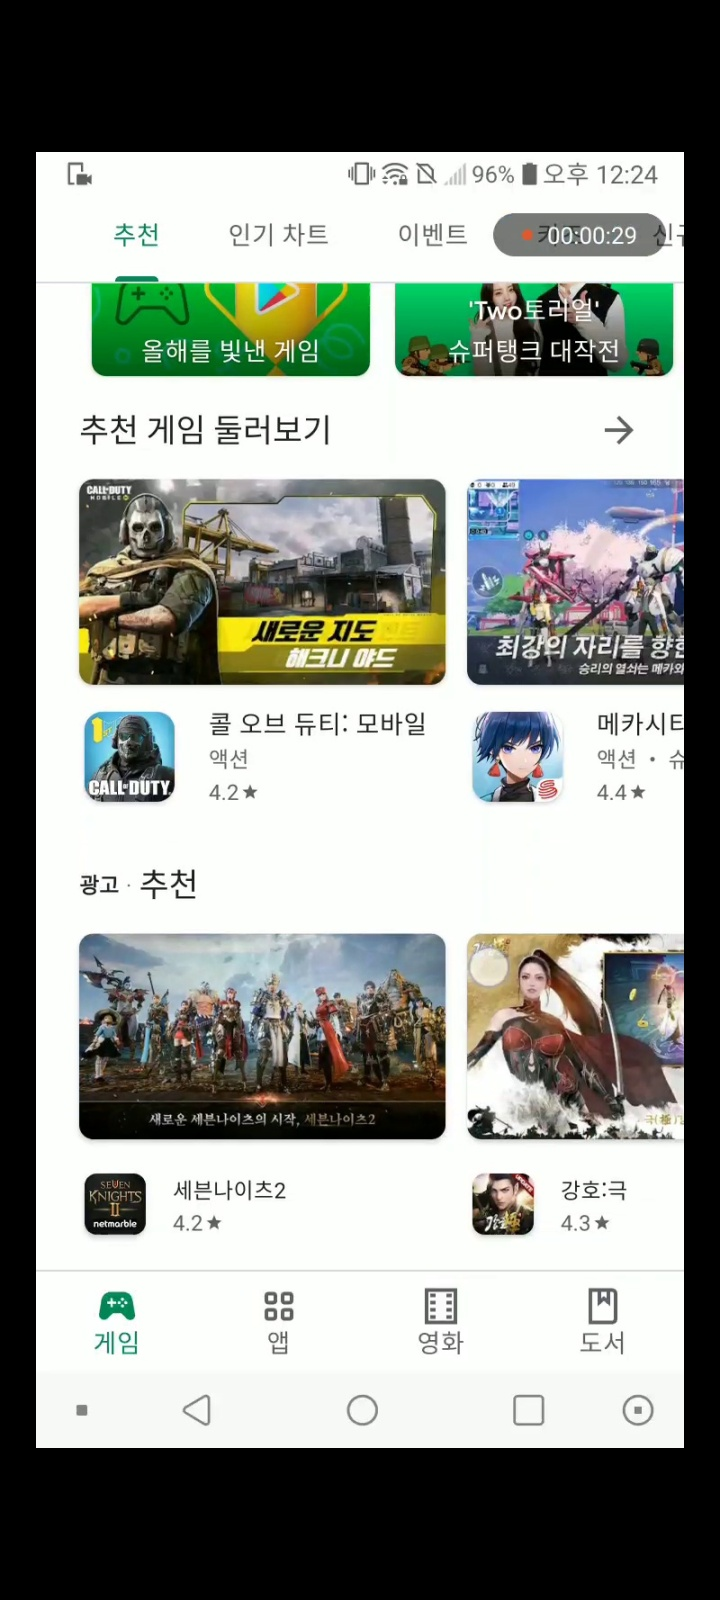Cursor: (468, 945, 513, 990)
